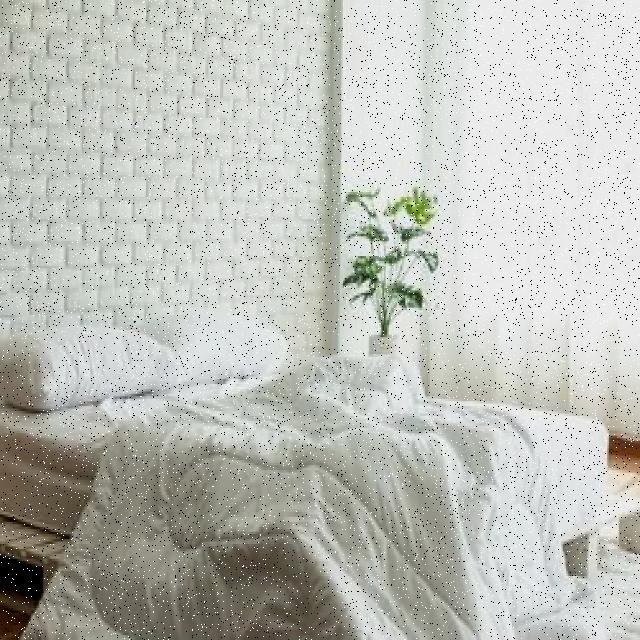bed: (0, 301, 608, 639)
